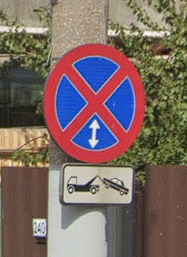oprirea_interzisa: (43, 44, 146, 165)
